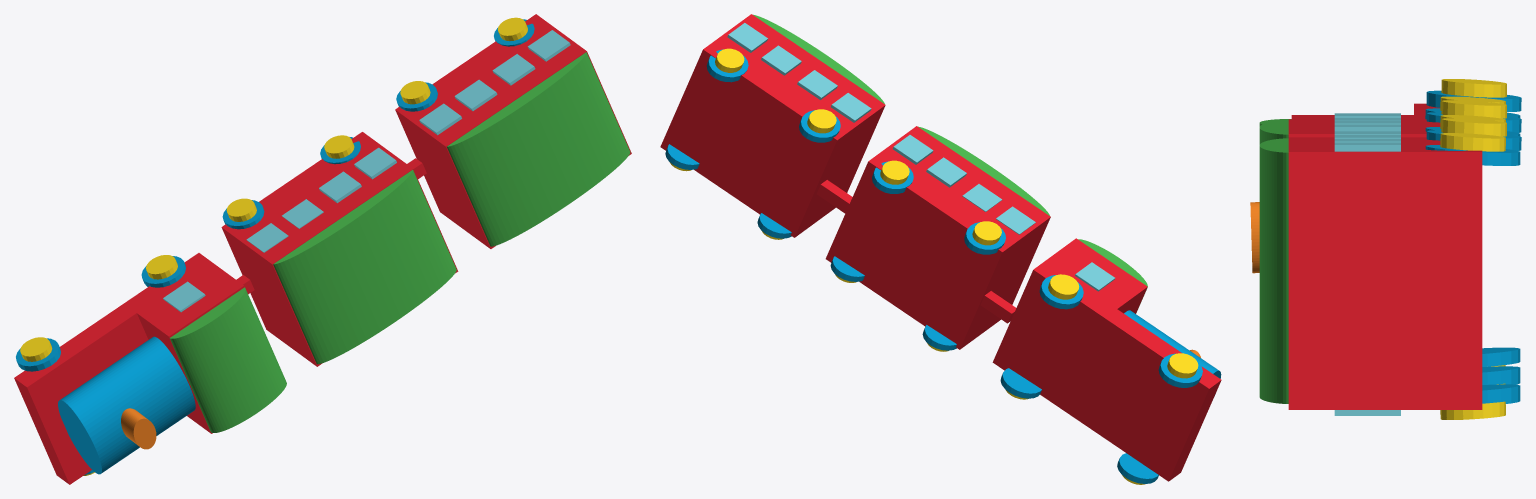
Rendered from tinker.obj.
3 renders of one model, left to right at view 1: azimuth 30°, elevation 25°; view 2: azimuth 150°, elevation 25°; view 3: azimuth 270°, elevation 25°, orthographic. The views are drawn at different scales.
Visible parts, largest first — view 1: group_0_4634441, group_0_15277357, group_0_40919, group_0_7720667, group_0_16768282, group_0_16089887; view 2: group_0_15277357, group_0_40919, group_0_7720667, group_0_16768282, group_0_4634441; view 3: group_0_15277357, group_0_4634441, group_0_16768282, group_0_40919, group_0_7720667, group_0_16089887.
Boxes of the visible parts, x1,y1,x2,y2 form: group_0_4634441: (169,52,630,432); group_0_15277357: (14,14,631,484); group_0_40919: (16,19,534,475); group_0_7720667: (163,30,570,312); group_0_16768282: (20,17,527,475); group_0_16089887: (121,408,156,449); group_0_15277357: (660,14,1221,481); group_0_40919: (665,49,1221,483); group_0_7720667: (727,23,1115,291); group_0_16768282: (669,48,1198,484); group_0_4634441: (753,14,1147,312); group_0_15277357: (1288,103,1482,409); group_0_4634441: (1259,119,1291,403); group_0_16768282: (1440,79,1506,419); group_0_40919: (1425,90,1521,403); group_0_7720667: (1334,113,1400,415); group_0_16089887: (1250,202,1259,273).
Bounding box in the file's own units: 195 × 112 × 42.02.
